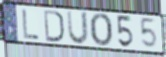5: (116, 14, 135, 49), (138, 18, 158, 51)
D: (43, 9, 65, 44)
L: (21, 8, 41, 41)
O: (89, 12, 114, 49)
U: (66, 9, 90, 47)
